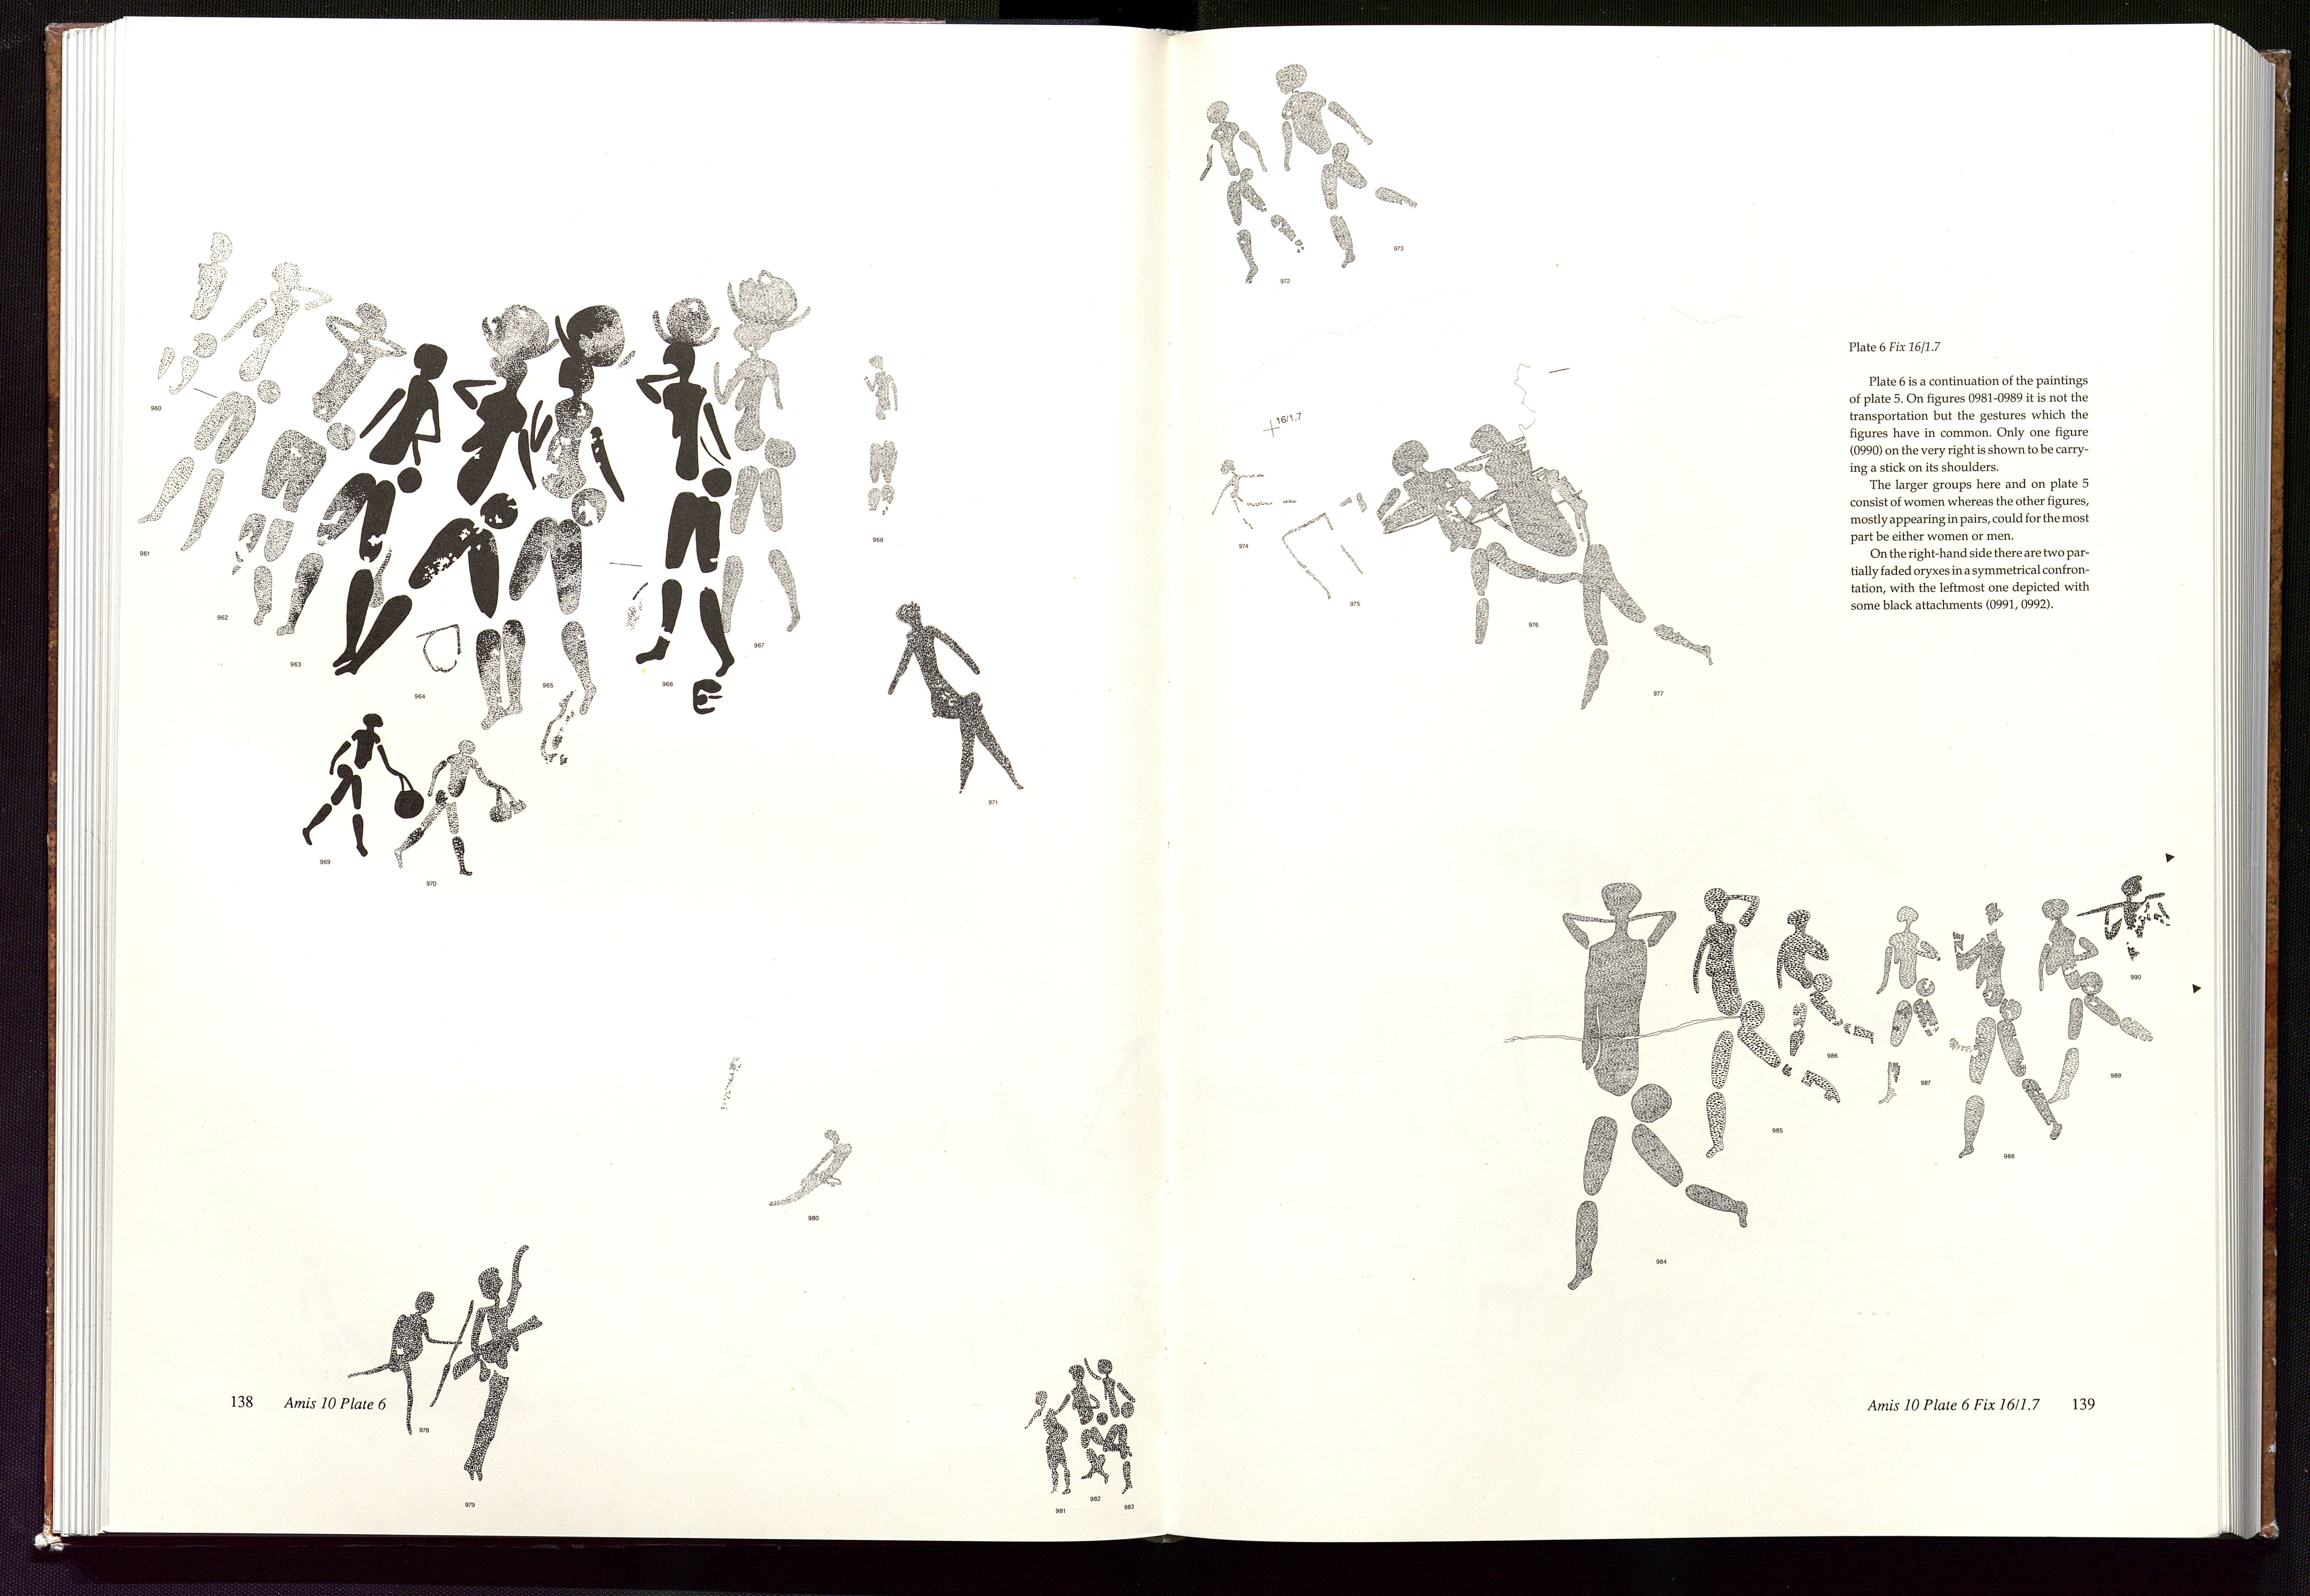human: (333, 305, 560, 730), (1559, 880, 1750, 1292), (1455, 425, 1714, 712), (229, 301, 407, 627), (137, 260, 332, 551), (276, 344, 450, 667), (502, 305, 635, 718), (1374, 439, 1584, 649), (1690, 886, 1843, 1160), (634, 298, 736, 678), (712, 269, 813, 633), (1275, 63, 1423, 270), (1952, 901, 2062, 1160), (885, 600, 1023, 795), (2036, 898, 2155, 1106), (452, 1245, 544, 1483), (1196, 99, 1307, 286), (1874, 904, 1973, 1106), (344, 1289, 476, 1436), (395, 739, 528, 877), (300, 712, 425, 857), (1774, 908, 1876, 1057), (155, 229, 235, 397), (2076, 874, 2172, 962), (1083, 1355, 1138, 1492), (767, 1128, 856, 1207), (1052, 1364, 1110, 1485), (1209, 459, 1296, 532), (862, 354, 900, 514), (1023, 1389, 1071, 1497)
